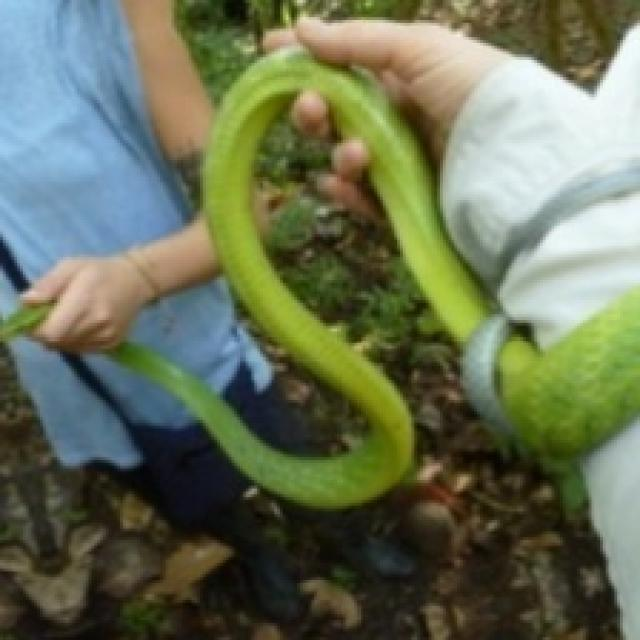red-tailed green ratsnake: (106, 49, 637, 506)
